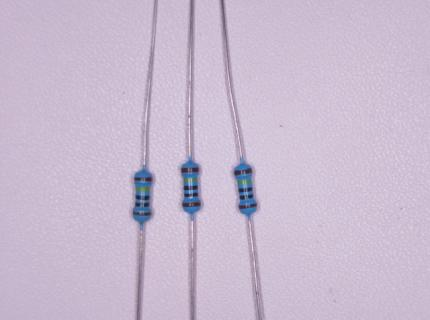Black band: (239, 193, 254, 200), (184, 192, 199, 198), (239, 186, 253, 192), (135, 195, 150, 200), (135, 202, 150, 207), (184, 185, 198, 190)
Brown band: (238, 202, 257, 209), (233, 168, 252, 175), (133, 210, 152, 216), (180, 167, 199, 173), (133, 177, 152, 182), (182, 202, 200, 207)
Yellow band: (135, 187, 150, 192), (184, 177, 198, 182), (238, 179, 252, 184)
